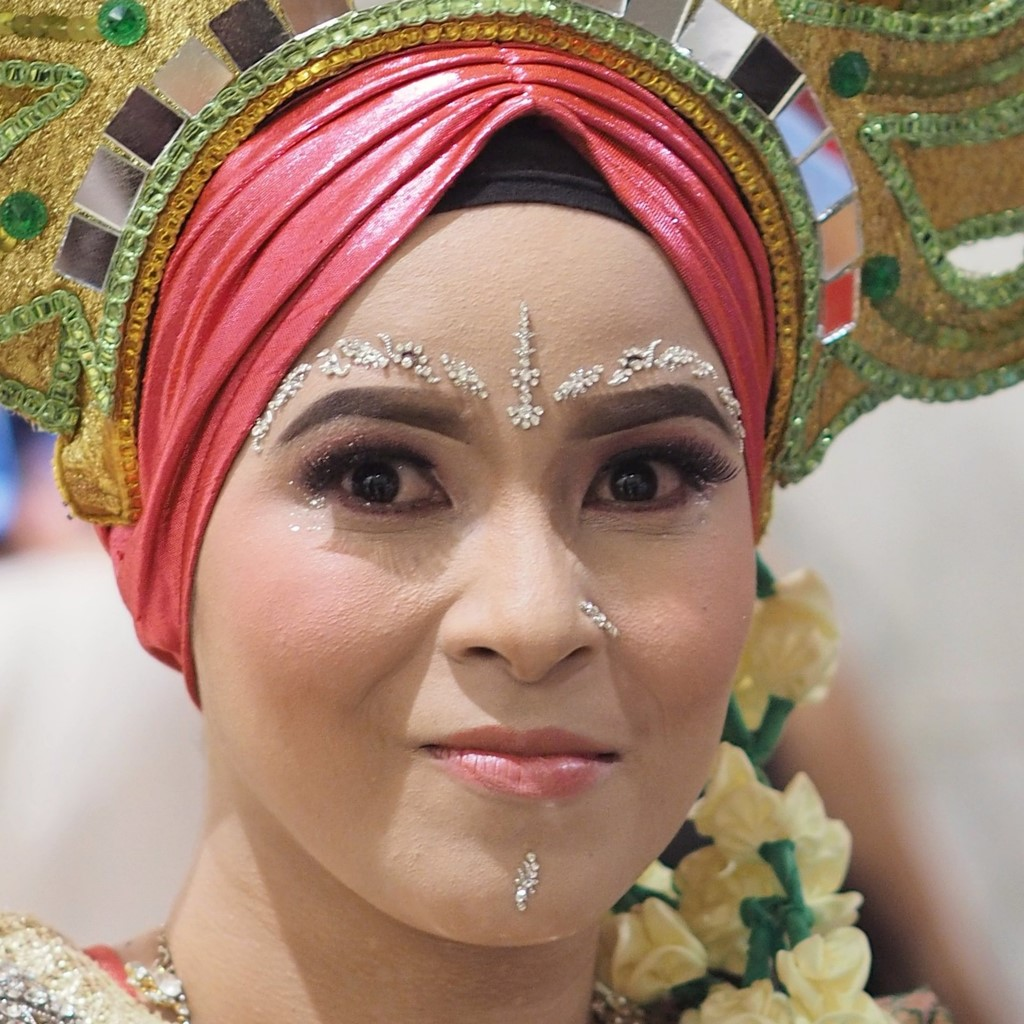sin_mascara: (119, 65, 788, 964)
